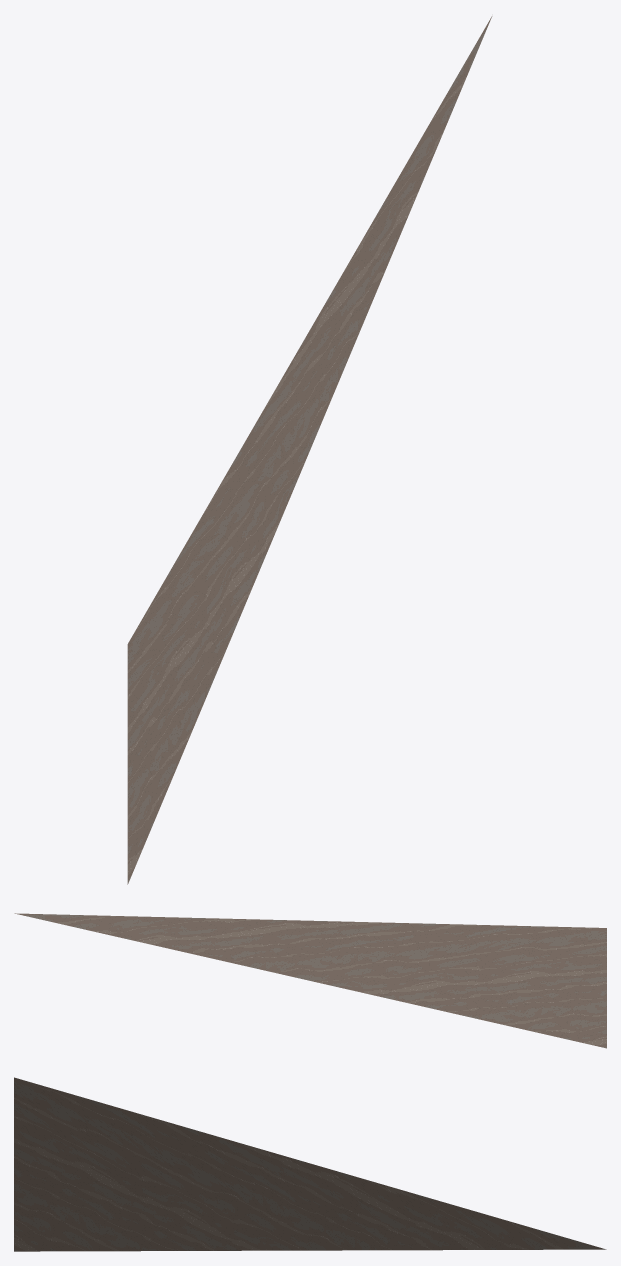
Rendered from kd_stage_135fe0_4_43.glb.
3 views of the same model, one above another, from view 1: azimuth 30°, elevation 25°; view 2: azimuth 150°, elevation 25°; view 3: azimuth 270°, elevation 25° (orthographic). The views are drawn at different scales.
Parts seen in each view (by area): view 1: kd_stage_135fe0_4_43; view 2: kd_stage_135fe0_4_43; view 3: kd_stage_135fe0_4_43.
Part boxes in pixels (box(x1,y1,x2,y2)): kd_stage_135fe0_4_43: box(127, 16, 492, 884); kd_stage_135fe0_4_43: box(14, 913, 606, 1048); kd_stage_135fe0_4_43: box(14, 1077, 606, 1251).
Size of the model in its own units: 14.47 by 6.8 by 13.26.
Materials: 1 (1 with a texture image).
